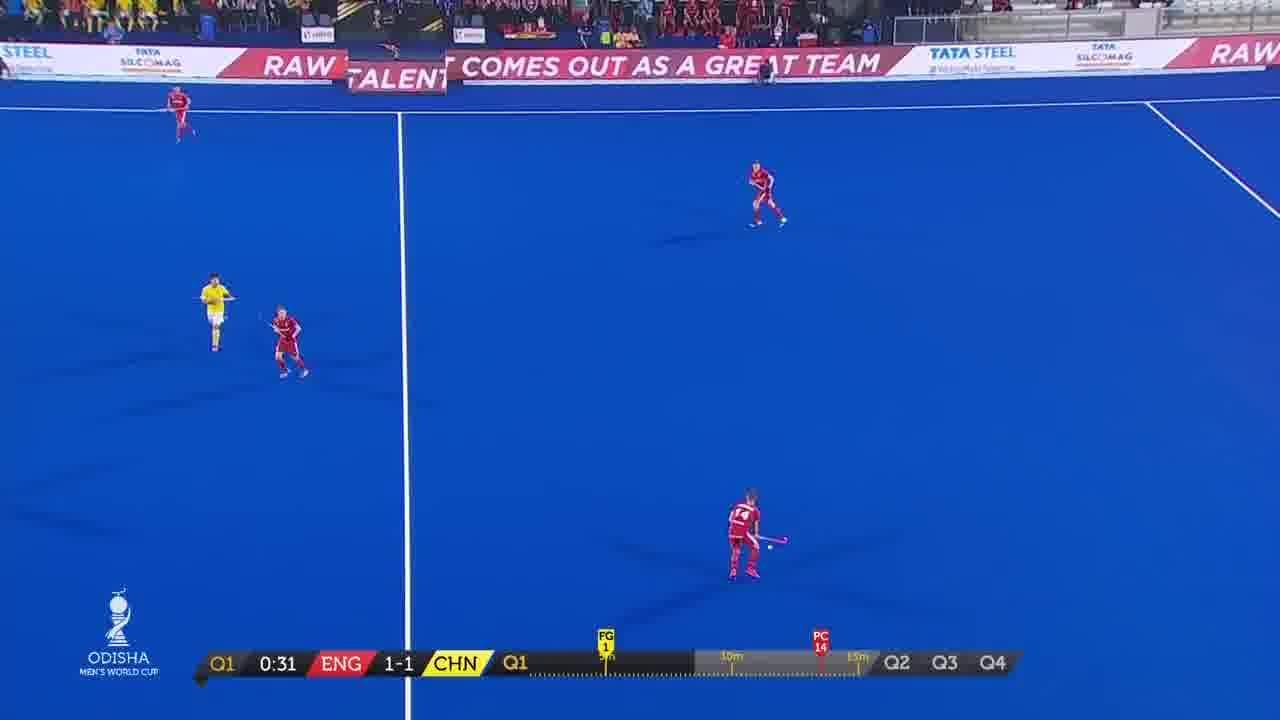ball: (765, 540, 778, 553)
